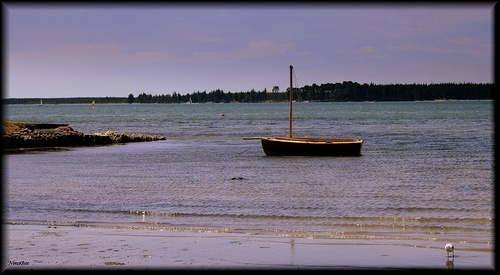boat: (261, 65, 365, 159)
